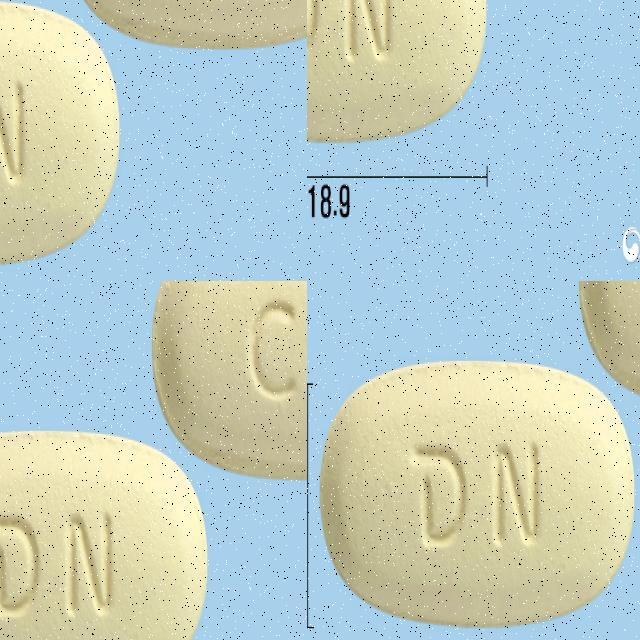Amocla Duo500mg: (307, 0, 602, 162)
Ciprofloxacin HCl Tab- Unimed: (11, 458, 243, 640)
Clamacin: (317, 352, 638, 637)
Clribio: (0, 9, 92, 264), (74, 0, 307, 71)
